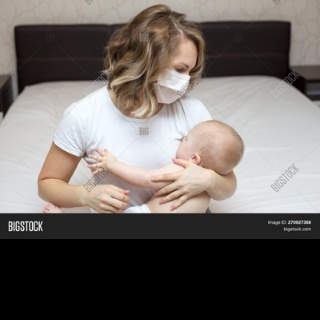with_mask: (150, 59, 192, 104)
